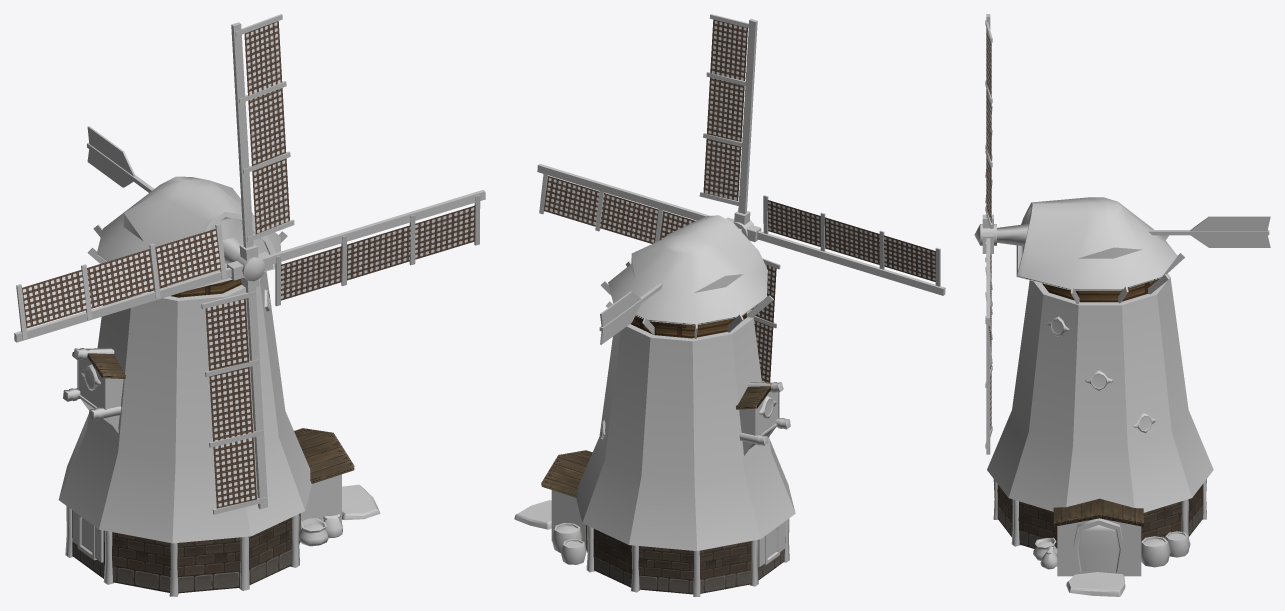
Rendered from Windmill.fbx.
The picture shows the model from 3 angles, left to right: view 1: azimuth 30°, elevation 25°; view 2: azimuth 150°, elevation 25°; view 3: azimuth 270°, elevation 25°; orthographic projection. The views are drawn at different scales.
Parts seen in each view (by area): view 1: WindMill_Main, Windmill_Blades1, Windmill_Top, Backface, Porch, WindowBox2, Window_8, Slab7, Sack_Wheat_2; view 2: WindMill_Main, Windmill_Blades1, Windmill_Top, Backface, Porch, WindowBox2, Window_8, Slab7, Planks, Barrel_Wheat4, Barrel; view 3: WindMill_Main, Windmill_Top, Porch, Windmill_Blades1, Door6, Slab7, DoorFrame6, Barrel_Wheat4, Barrel, Planks.
Part boxes in pixels (x1,y1,x2,y2): WindMill_Main: (58,271,311,596); Windmill_Blades1: (14,14,485,514); Windmill_Top: (87,126,281,290); Backface: (22,24,475,505); Porch: (294,428,354,542); WindowBox2: (63,348,125,432); Window_8: (72,510,103,562); Slab7: (342,484,380,520); Sack_Wheat_2: (299,518,328,546); WindMill_Main: (576,309,795,596); Windmill_Blades1: (537,14,945,382); Windmill_Top: (599,215,767,344); Backface: (545,20,935,381); Porch: (541,450,592,546); WindowBox2: (736,382,790,455); Window_8: (758,522,784,566); Slab7: (514,500,551,529); Planks: (601,261,773,338); Barrel_Wheat4: (552,523,582,552); Barrel: (561,539,586,564); WindMill_Main: (987,273,1213,548); Windmill_Top: (997,197,1270,290); Porch: (1053,498,1143,576); Windmill_Blades1: (974,14,996,454); Door6: (1079,525,1117,571); Slab7: (1066,572,1125,596); DoorFrame6: (1073,518,1124,572); Barrel_Wheat4: (1141,536,1170,567); Barrel: (1165,531,1190,557); Planks: (1070,235,1184,303).
Size of the model in its own units: 31.12 by 36.31 by 19.53.
